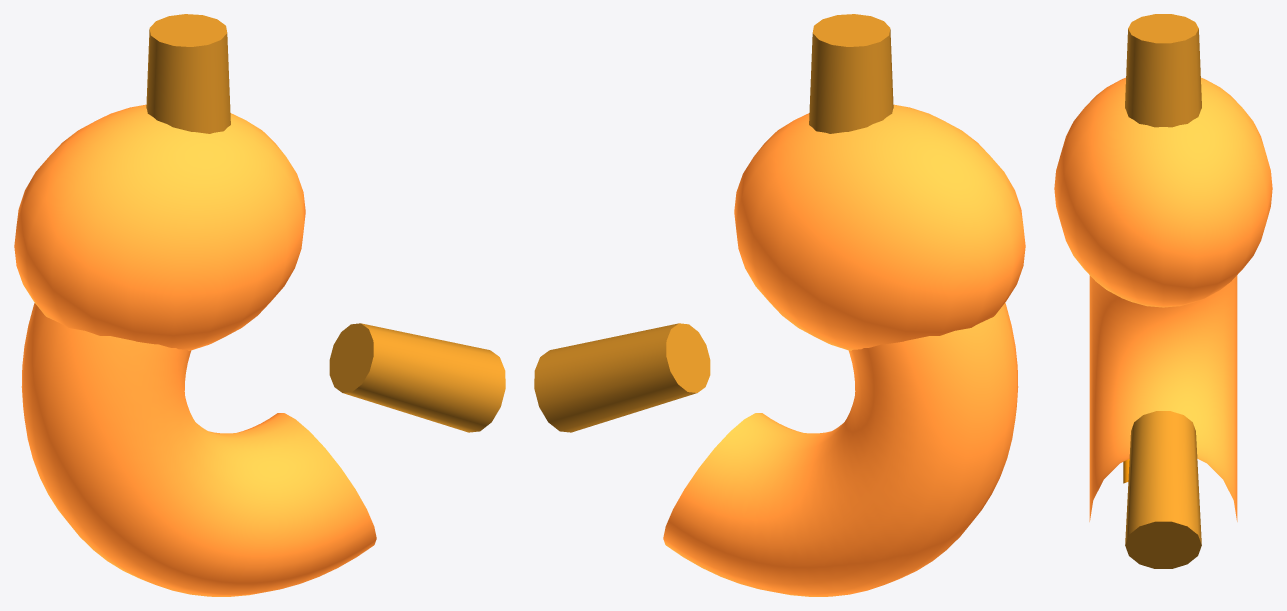
The model's file is stomach.glb.
The picture shows the model from 3 angles, left to right: view 1: azimuth 30°, elevation 25°; view 2: azimuth 150°, elevation 25°; view 3: azimuth 270°, elevation 25°; orthographic projection. The views are drawn at different scales.
Visible parts, largest first — view 1: HumanStomach; view 2: HumanStomach; view 3: HumanStomach.
Part boxes in pixels (bbox=[...]): HumanStomach: bbox=[14, 14, 505, 596]; HumanStomach: bbox=[534, 14, 1025, 596]; HumanStomach: bbox=[1054, 14, 1272, 568].
Size of the model in its own units: 1.65 by 1.92 by 0.7392.
